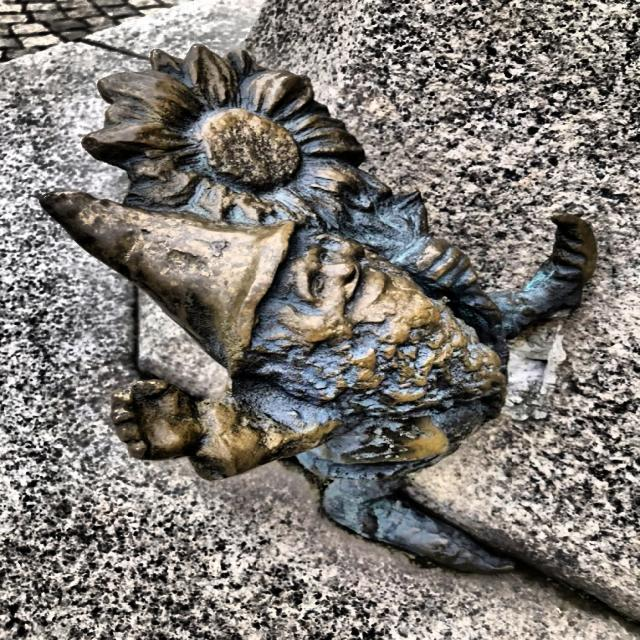Zyczliwek: (42, 46, 597, 572)
